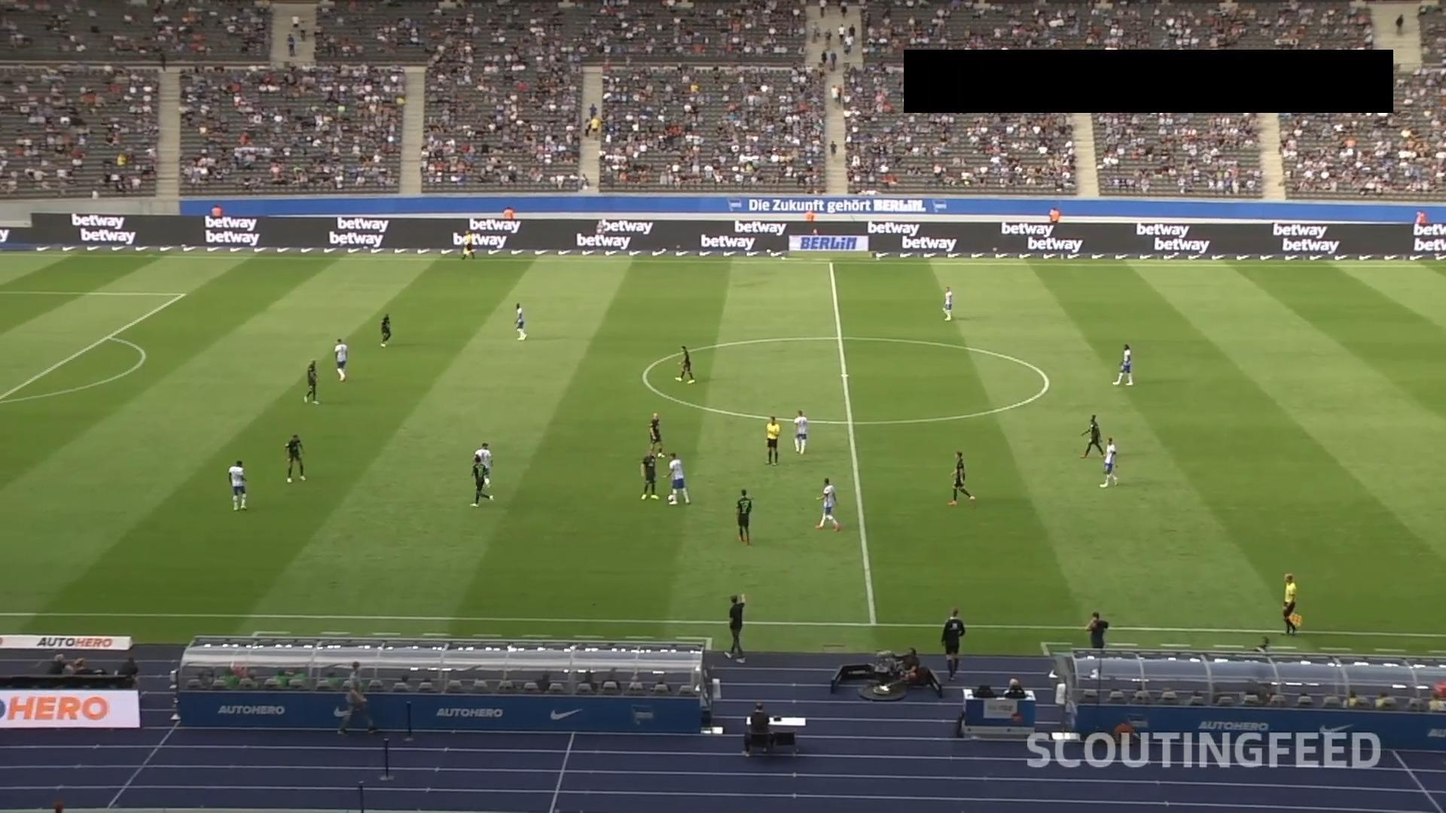ball: (667, 494, 675, 502)
player: (661, 452, 692, 508), (947, 449, 975, 508), (811, 477, 839, 532), (470, 440, 497, 493), (471, 455, 496, 510), (1078, 413, 1107, 460), (226, 458, 250, 513), (282, 434, 307, 485), (734, 487, 754, 546), (1097, 437, 1119, 490), (639, 450, 660, 502), (1112, 343, 1133, 388), (674, 345, 696, 386), (647, 411, 666, 458), (304, 358, 321, 406), (792, 409, 809, 455), (334, 338, 349, 382), (514, 301, 528, 342), (380, 312, 394, 349), (941, 285, 953, 322)
referee: (1280, 574, 1302, 636), (765, 416, 782, 466), (460, 230, 476, 260)
